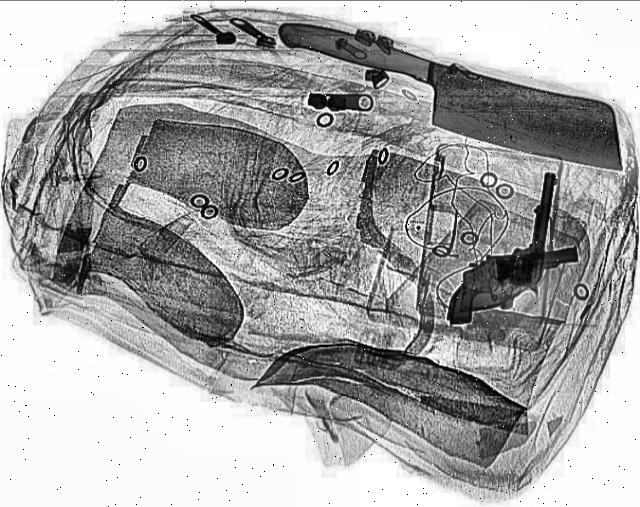Gun: (452, 166, 562, 320), (436, 246, 592, 328)
Knife: (252, 20, 640, 172)
